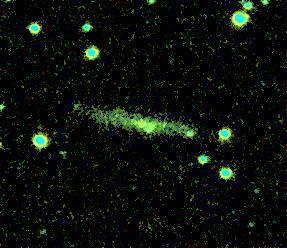star: (150, 110, 180, 140)
